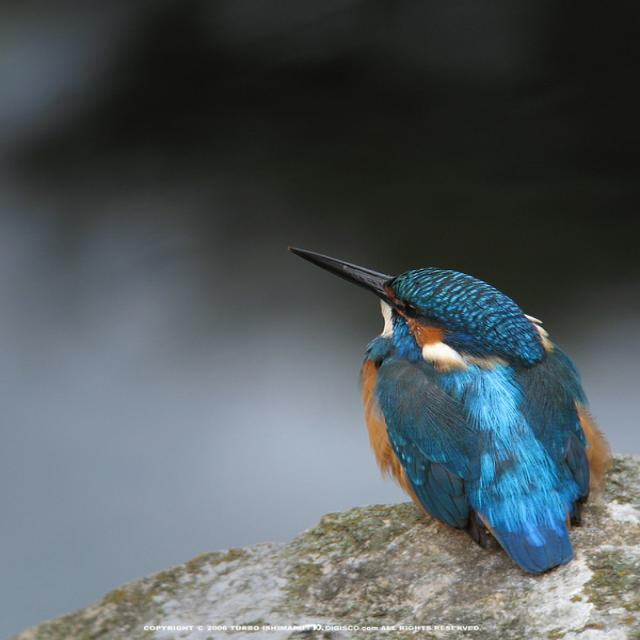bird: (290, 244, 610, 578)
